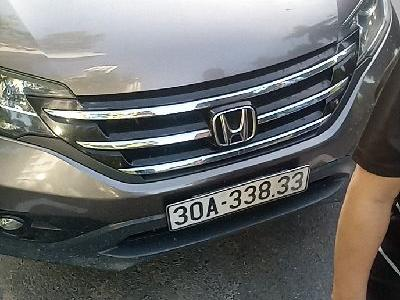car: (165, 166, 311, 236)
